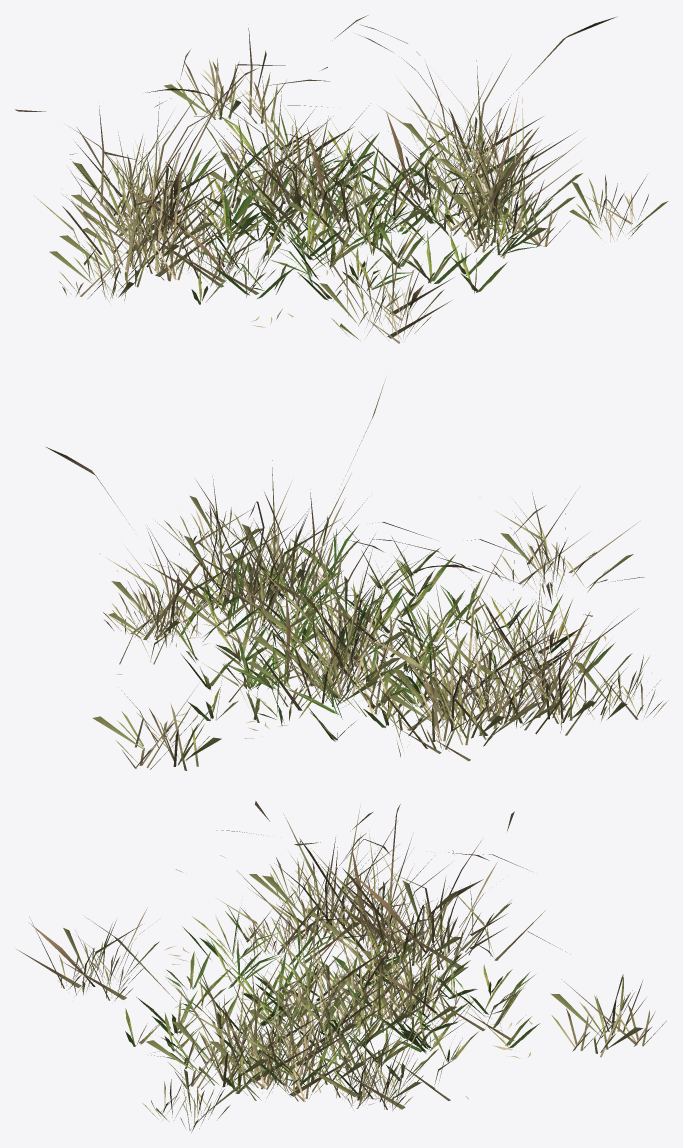
File: wukong-grass-clumps-lod-textured.glb
3 renders of one model, top to bottom at view 1: azimuth 30°, elevation 25°; view 2: azimuth 150°, elevation 25°; view 3: azimuth 270°, elevation 25°, orthographic. The views are drawn at different scales.
Parts seen in each view (by area): view 1: Grass_Tall_LOD, Grass_Lush_LOD, Grass_Short_LOD; view 2: Grass_Tall_LOD, Grass_Lush_LOD, Grass_Short_LOD; view 3: Grass_Tall_LOD, Grass_Lush_LOD, Grass_Short_LOD.
Boxes of the visible parts, x1,y1,x2,y2 form: Grass_Tall_LOD: [15, 15, 668, 343]; Grass_Lush_LOD: [165, 113, 544, 304]; Grass_Short_LOD: [174, 112, 548, 304]; Grass_Tall_LOD: [46, 378, 668, 770]; Grass_Lush_LOD: [152, 525, 610, 741]; Grass_Short_LOD: [168, 537, 615, 740]; Grass_Tall_LOD: [16, 801, 666, 1132]; Grass_Lush_LOD: [126, 906, 535, 1096]; Grass_Short_LOD: [125, 909, 539, 1093].
Size of the model in its own units: 1.31 by 0.362 by 1.31.
3 materials, 3 textured.
